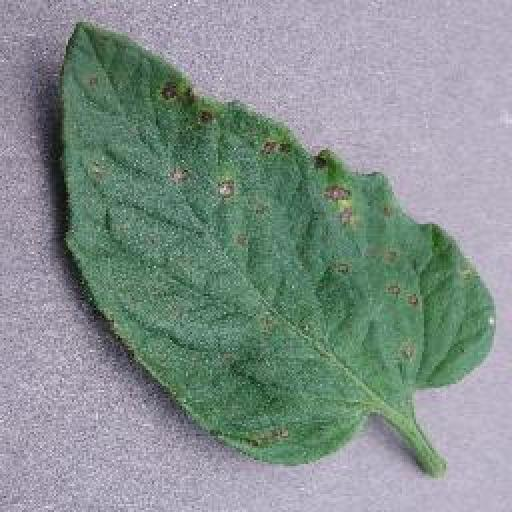Septoria: (60, 20, 499, 467)
